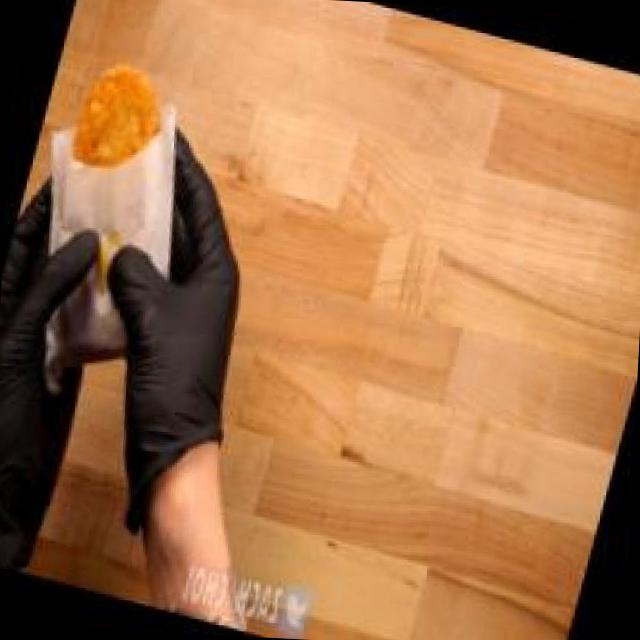Hashbrown: (53, 28, 192, 213)
